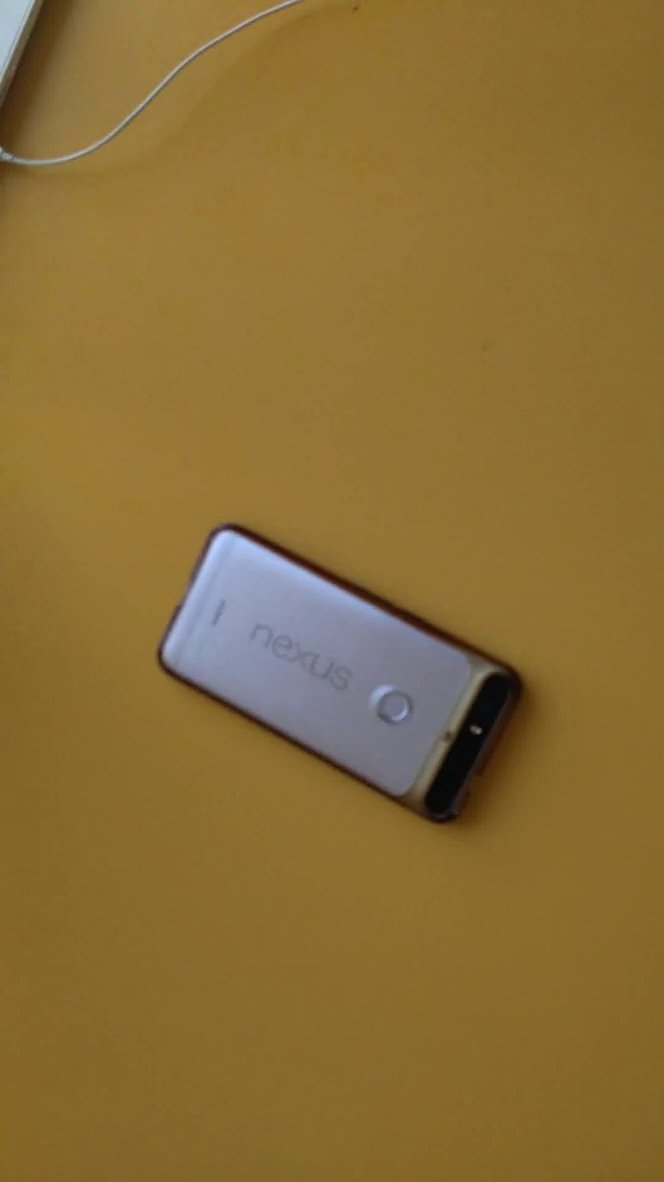phone: (142, 513, 569, 837)
